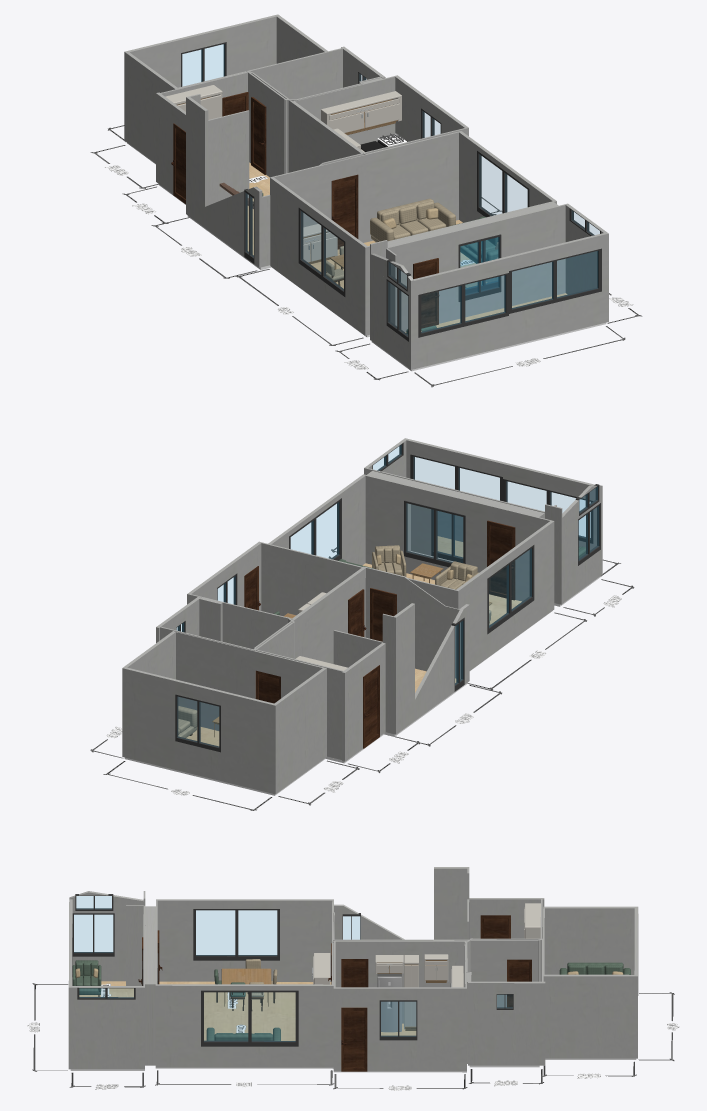
Rendered from zemin-iyilestirilmis.glb.
The picture shows the model from 3 angles, top to bottom: view 1: azimuth 30°, elevation 25°; view 2: azimuth 150°, elevation 25°; view 3: azimuth 270°, elevation 25°; orthographic projection. The views are drawn at different scales.
Parts seen in each view (by area): view 1: Duvar.031, Duvar.030, Duvar.036, Duvar.029, Duvar, Duvar.010, wall_022.008, wall_022.007, Duvar.006, Duvar.011, Duvar.014, Duvar.009 (+31 smaller); view 2: Duvar.010, Duvar.027, Duvar.013, Duvar.029, Duvar, Duvar.011, Duvar.023, Duvar.031, Duvar.008, Duvar.009, wall_022.004, Duvar.004 (+32 smaller); view 3: Duvar.028, Duvar.029, Duvar.022, Duvar.012, Duvar.016, Duvar.032, wall_022.005, Duvar.011, wall_022.006, Oda.004, Duvar, Duvar.026 (+30 smaller).
Part boxes in pixels (x1,y1,x2,y2): Duvar.031: [410, 232, 608, 369]; Duvar.030: [273, 131, 461, 242]; Duvar.036: [387, 204, 568, 331]; Duvar.029: [270, 176, 367, 335]; Duvar: [186, 96, 262, 267]; Duvar.010: [125, 14, 279, 87]; wall_022.008: [509, 248, 601, 313]; wall_022.007: [418, 273, 508, 337]; Duvar.006: [208, 110, 249, 205]; Duvar.011: [124, 52, 178, 163]; Duvar.014: [246, 48, 343, 99]; Duvar.009: [252, 72, 362, 172]; Duvar.010: [122, 667, 276, 794]; Duvar.027: [363, 473, 553, 601]; Duvar.013: [173, 631, 323, 730]; Duvar.029: [456, 521, 554, 670]; Duvar: [393, 603, 469, 734]; Duvar.011: [274, 667, 326, 793]; Duvar.023: [259, 542, 363, 616]; Duvar.031: [403, 438, 601, 575]; Duvar.008: [365, 567, 460, 679]; Duvar.009: [254, 567, 365, 663]; wall_022.004: [404, 500, 465, 567]; Duvar.004: [342, 642, 385, 761]; Duvar.028: [155, 984, 333, 1067]; Duvar.029: [156, 899, 333, 981]; Duvar.022: [334, 987, 466, 1071]; Duvar.012: [543, 974, 637, 1058]; Duvar.016: [468, 981, 545, 1065]; Duvar.032: [69, 986, 144, 1069]; wall_022.005: [201, 990, 298, 1046]; Duvar.011: [543, 906, 637, 974]; wall_022.006: [193, 909, 279, 960]; Oda.004: [155, 981, 333, 1068]; Duvar: [334, 867, 469, 939]; Duvar.026: [332, 940, 465, 1023].
Bounding box in the file's own units: 0.489 × 0.1796 × 0.9912.
34 materials, 18 textured.
